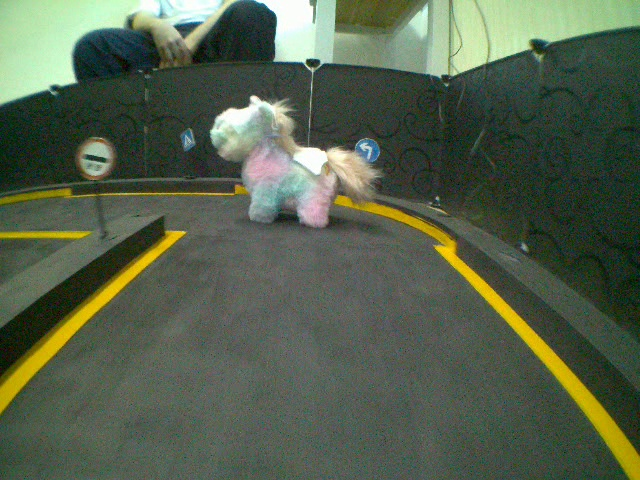unicorn: (196, 87, 392, 239)
